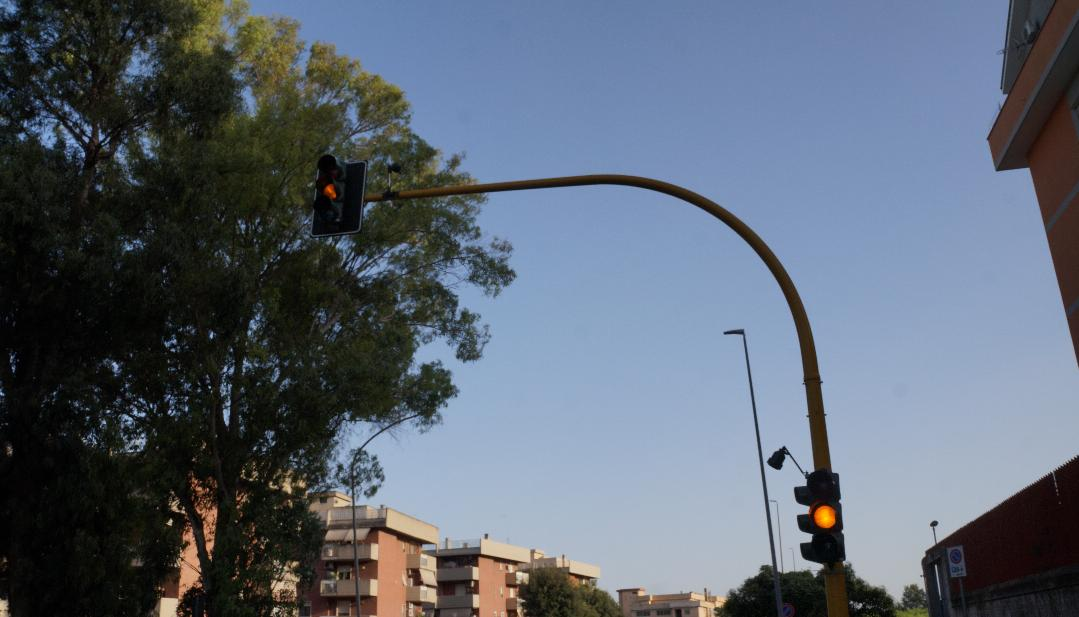yellow_light: (310, 154, 368, 237), (806, 472, 846, 562)
